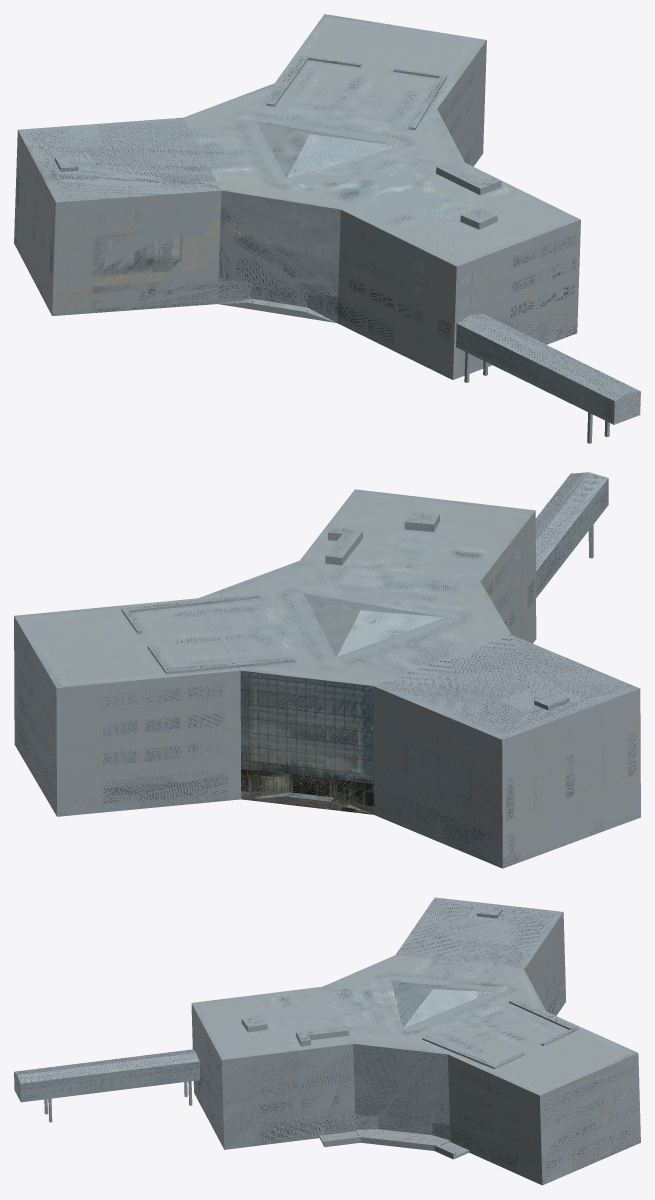
File: NETI.fbx
3 renders of one model, top to bottom at view 1: azimuth 30°, elevation 25°; view 2: azimuth 150°, elevation 25°; view 3: azimuth 270°, elevation 25°, orthographic. The views are drawn at different scales.
Visible parts, largest first — view 1: od_lini15_1; view 2: od_lini15_1; view 3: od_lini15_1.
Part boxes in pixels (bbox=[...]): od_lini15_1: bbox=[14, 14, 640, 443]; od_lini15_1: bbox=[14, 472, 640, 868]; od_lini15_1: bbox=[14, 897, 640, 1185].
Size of the model in its own units: 3320 by 887 by 4550.
